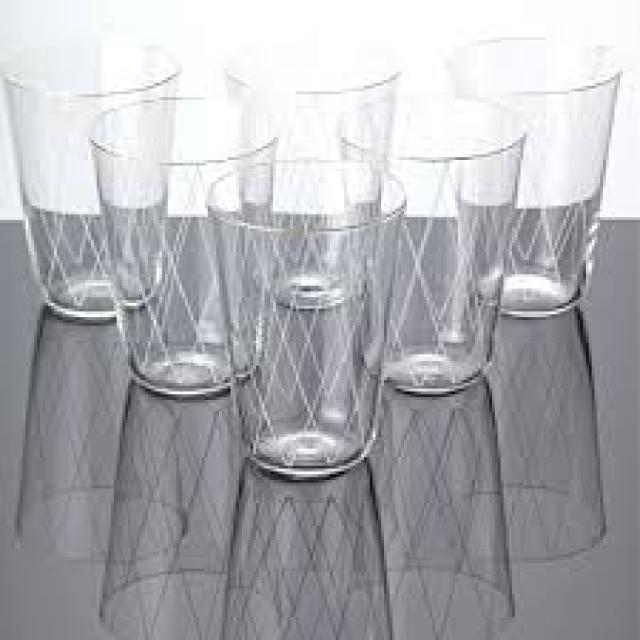glass: (202, 160, 395, 474), (85, 95, 276, 395), (333, 86, 515, 397), (444, 29, 617, 312), (3, 37, 176, 320), (219, 49, 401, 309)
